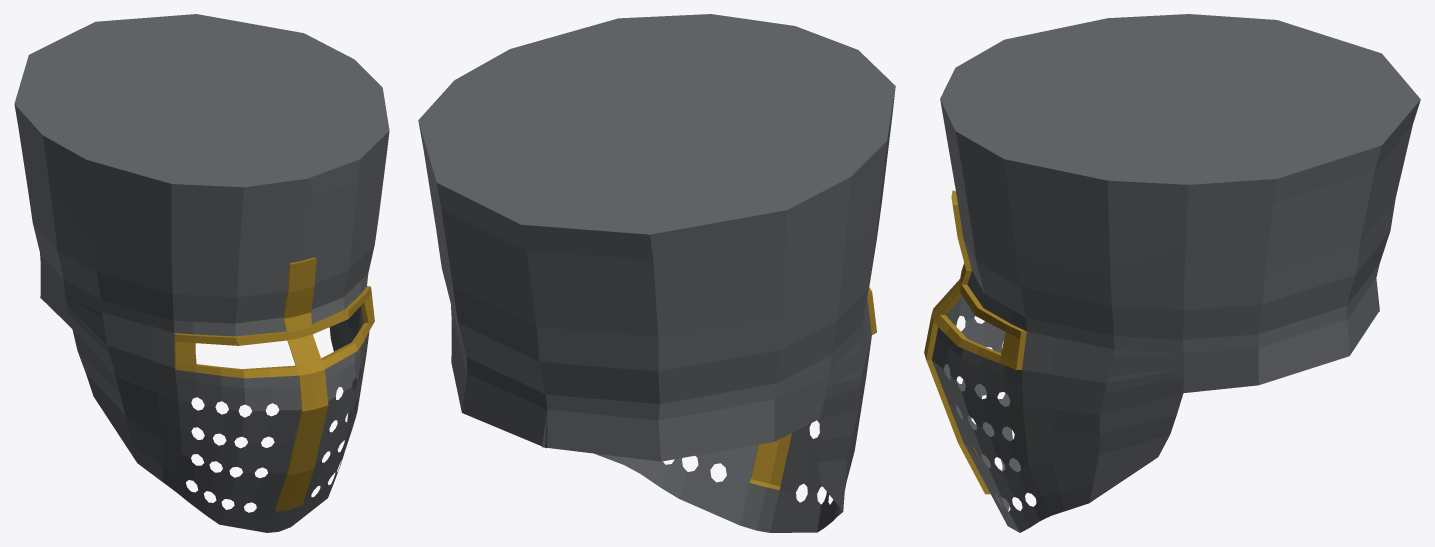
Rendered from KnightHelmet.fbx.
3 views of the same model, side by side, from view 1: azimuth 30°, elevation 25°; view 2: azimuth 150°, elevation 25°; view 3: azimuth 270°, elevation 25° (orthographic). The views are drawn at different scales.
Visible parts, largest first — view 1: Helmet; view 2: Helmet; view 3: Helmet.
Boxes of the visible parts, box(x1,y1,x2,y2) form: Helmet: box(14, 14, 389, 532); Helmet: box(418, 14, 895, 532); Helmet: box(924, 14, 1420, 532).
Size of the model in its own units: 42.78 by 49.21 by 52.56.
